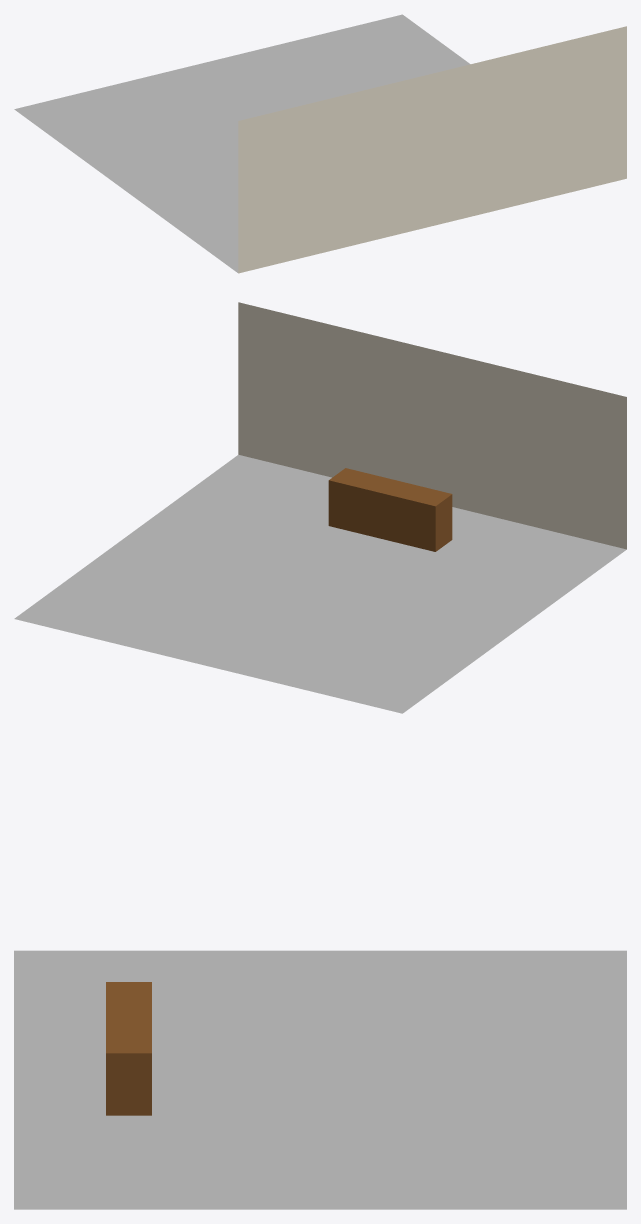
Rendered from smoke.glb.
The picture shows the model from 3 angles, top to bottom: view 1: azimuth 30°, elevation 25°; view 2: azimuth 150°, elevation 25°; view 3: azimuth 270°, elevation 25°; orthographic projection. The views are drawn at different scales.
Visible parts, largest first — view 1: BackWall, Floor; view 2: Floor, BackWall, Counter; view 3: Floor, Counter.
Boxes of the visible parts, left/top/right/bottom form: BackWall: left=238, top=26, right=626, bottom=273; Floor: left=14, top=14, right=470, bottom=272; Floor: left=14, top=455, right=626, bottom=713; BackWall: left=238, top=302, right=626, bottom=549; Counter: left=328, top=468, right=452, bottom=551; Floor: left=14, top=950, right=626, bottom=1209; Counter: left=106, top=982, right=151, bottom=1115.
Bounding box in the file's own units: 8 × 3 × 8.
